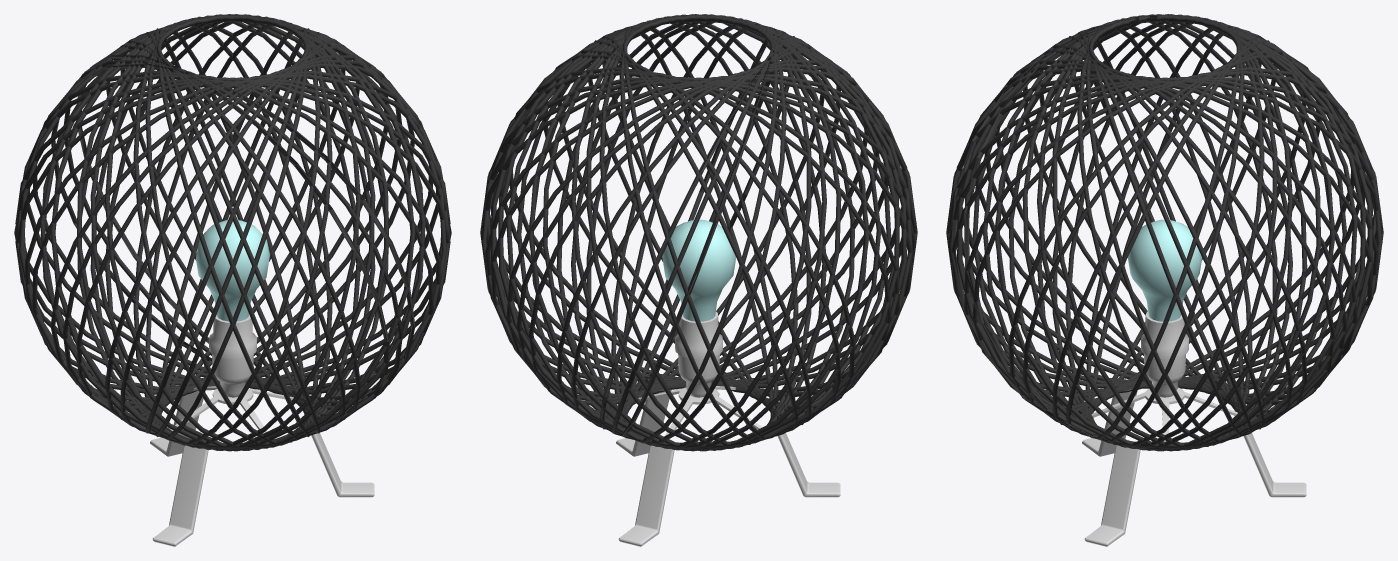
The model's file is SM_Tablelamp_02.fbx.
3 views of the same model, side by side, from view 1: azimuth 30°, elevation 25°; view 2: azimuth 150°, elevation 25°; view 3: azimuth 270°, elevation 25° (orthographic).
Visible parts, largest first — view 1: SM_Tablelamp_02_LOD0; view 2: SM_Tablelamp_02_LOD0; view 3: SM_Tablelamp_02_LOD0.
Boxes of the visible parts, x1=… form: SM_Tablelamp_02_LOD0: x1=14, y1=14, x2=451, y2=546; SM_Tablelamp_02_LOD0: x1=480, y1=14, x2=917, y2=546; SM_Tablelamp_02_LOD0: x1=946, y1=14, x2=1383, y2=546.
Size of the model in its own units: 24.08 by 24.08 by 27.12.
